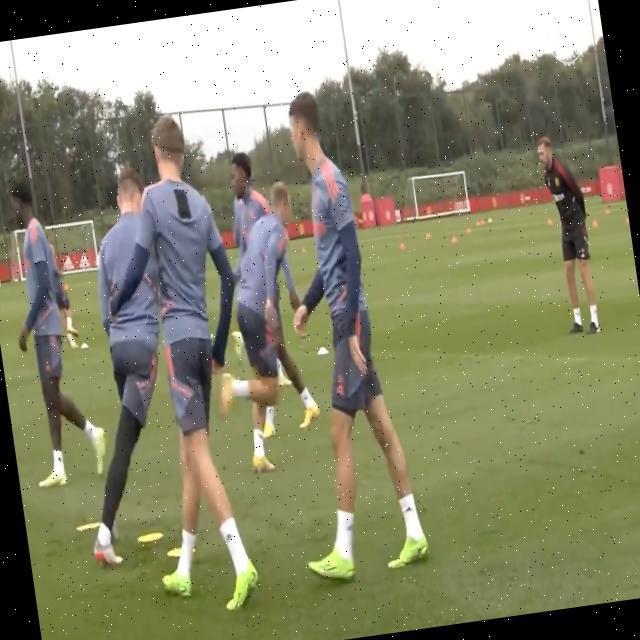Adidas: (60, 248, 93, 274), (336, 381, 346, 398)
